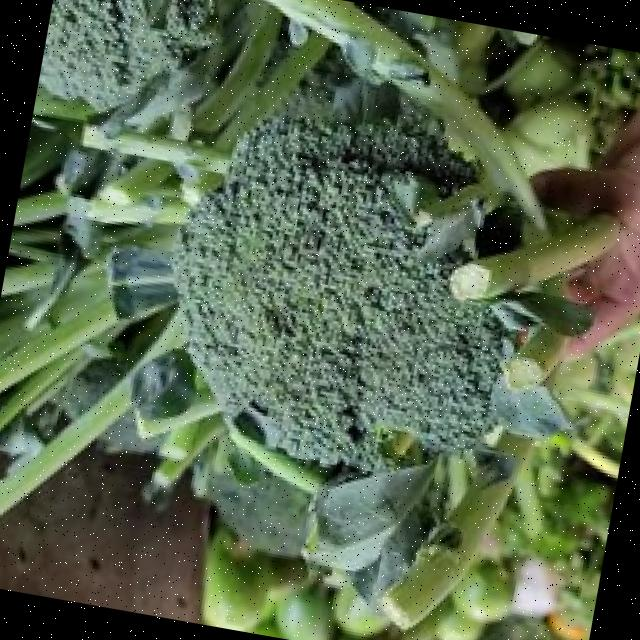Broccoli: (175, 103, 502, 470), (174, 110, 502, 470)
